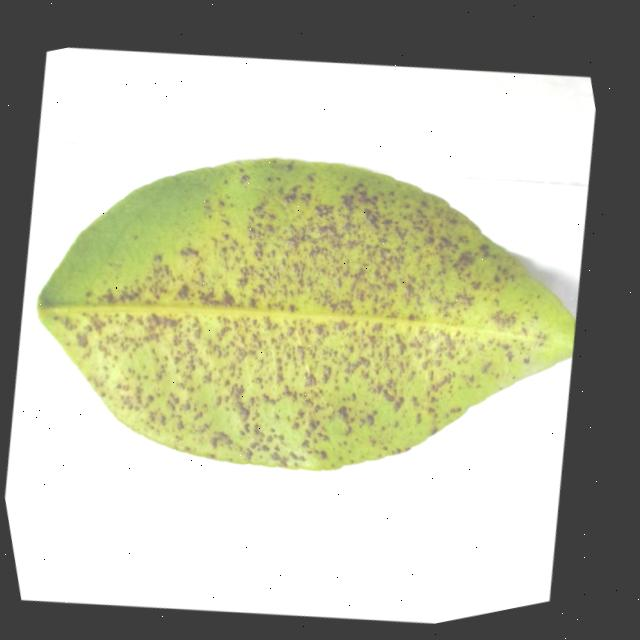melanose: (38, 158, 575, 470)
